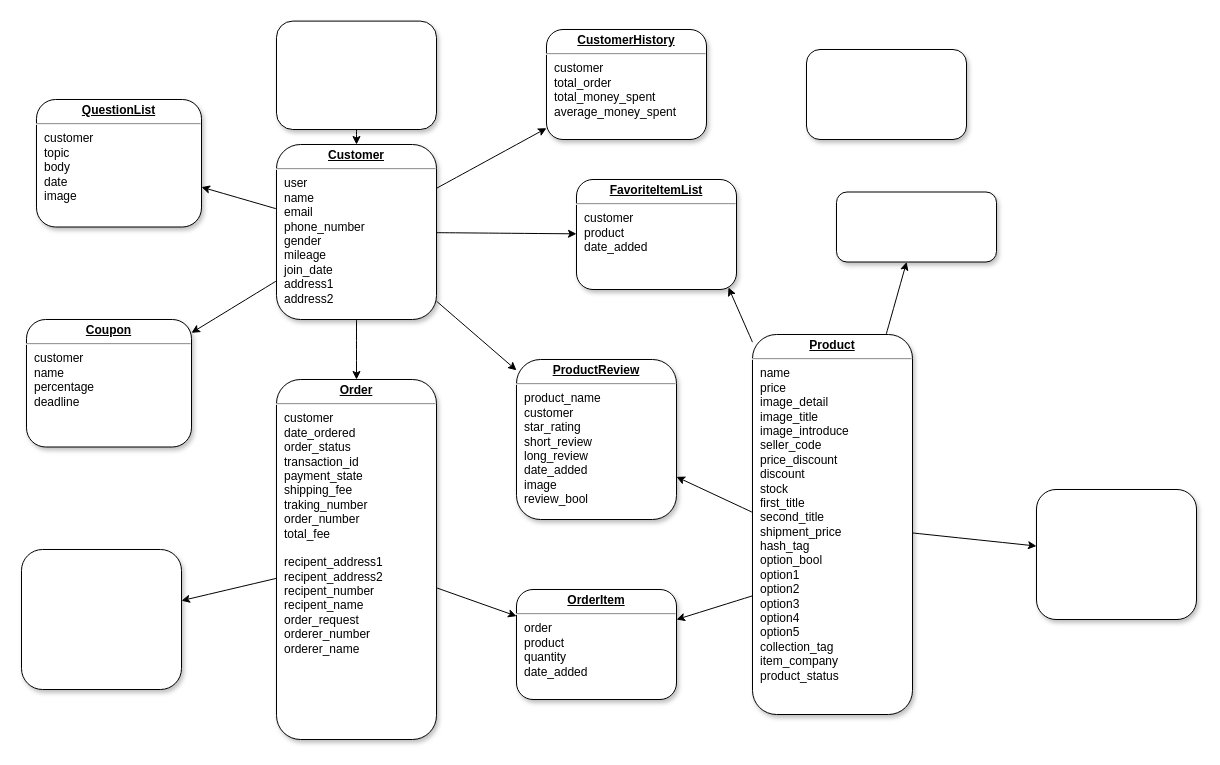
This 1220x765 diagram has some shape labels left out. Each missing label, with the centre of its shape:
Carosel picture banner_title banner_description: (887,95)
Collection product head_collection: (917,228)
ProductQuestion product question_title question_body date_questioned: (1117,555)
ShippingAddress customer order address city state zipcode date_added: (102,620)
User username first_name last_name password email: (357,76)
